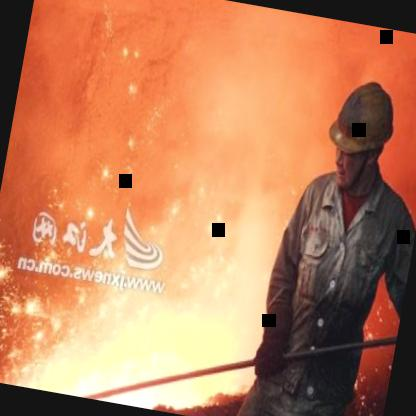helmet: (316, 67, 406, 199)
